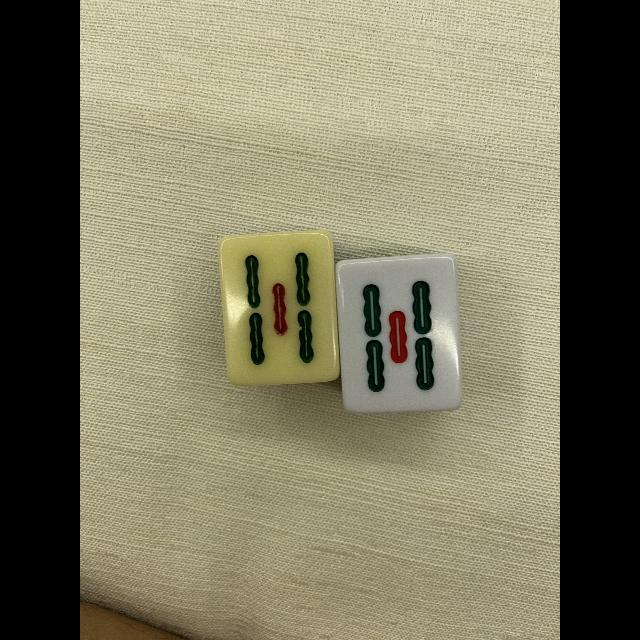b5: (344, 260, 458, 410), (223, 234, 333, 380)
